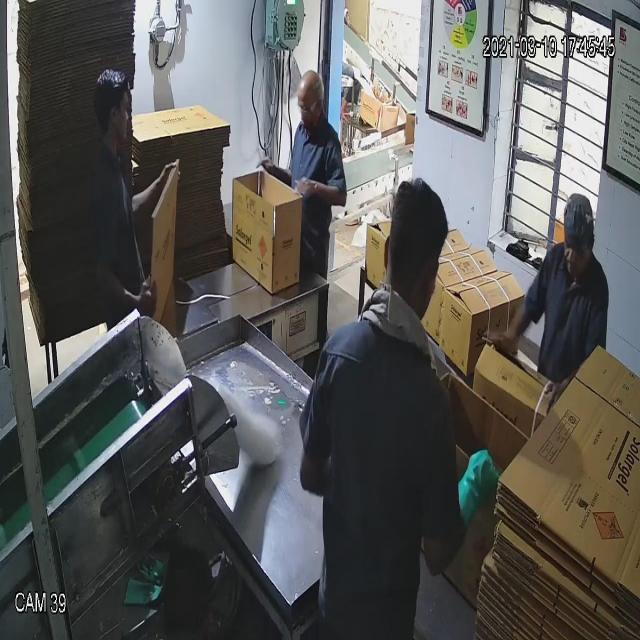No_Gloves: (56, 62, 511, 481)
